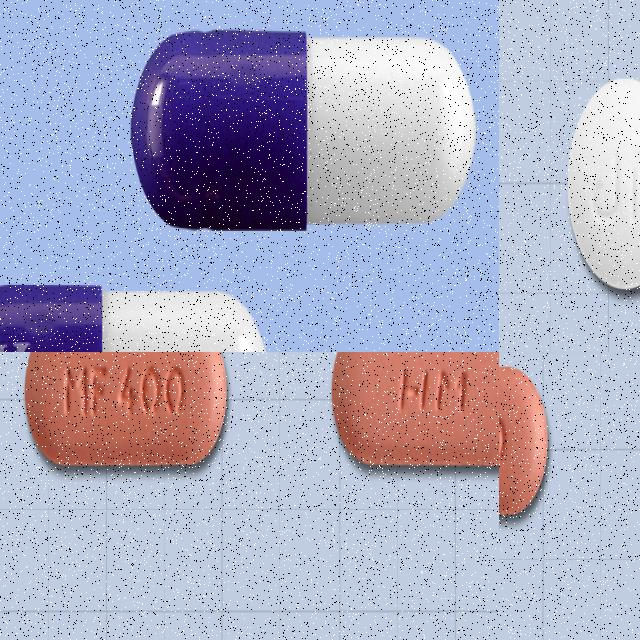Moroxacin: (24, 352, 227, 467), (332, 352, 499, 465), (499, 365, 548, 517)
Qsymia Cap-3-75mg: (130, 26, 477, 228), (0, 281, 270, 352)
Rp Levofloxacin Tab: (567, 78, 640, 291)
